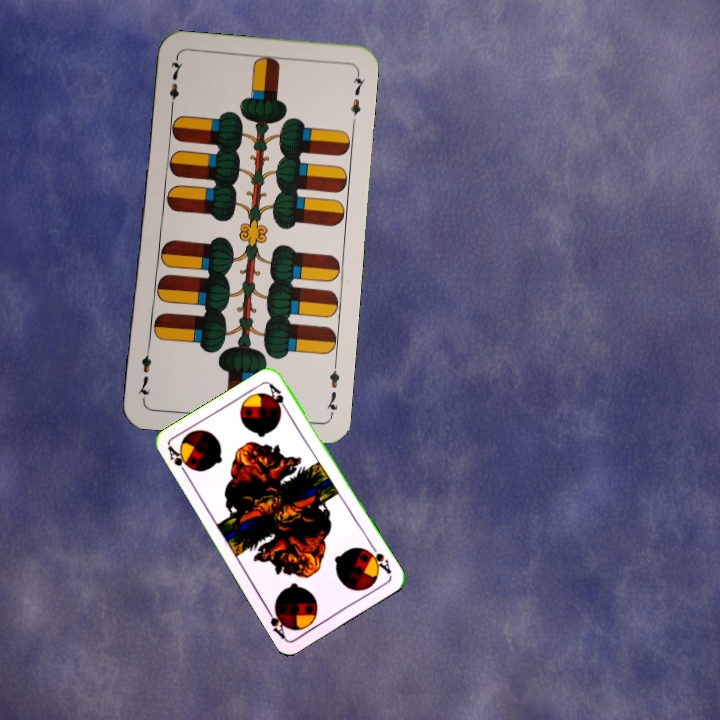E7: (322, 358, 342, 418), (165, 55, 184, 114)
SA: (164, 442, 194, 480), (363, 541, 394, 577)
